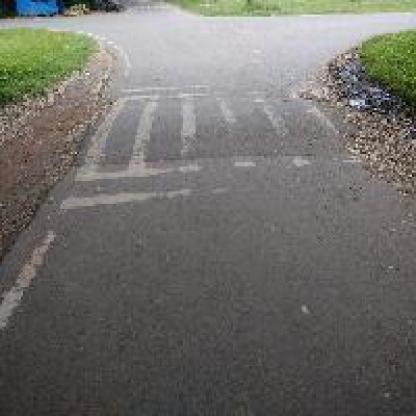Speed Bump: (72, 85, 365, 202)
